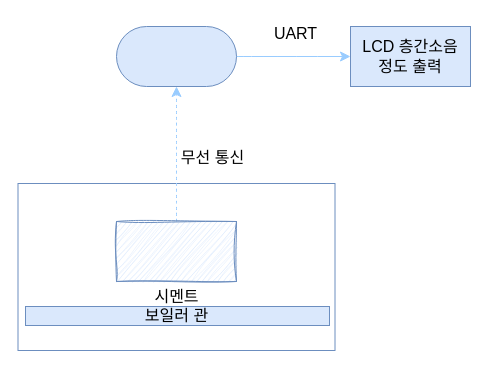
Image size: 488x368. Some labels were removed from this diagram. The shapes that lost their labels are listed below. From the top down, each one's centre as x and y in pixels, then its label:
At point 176,56: "아두이노".
At point 176,251: "진동센서".
